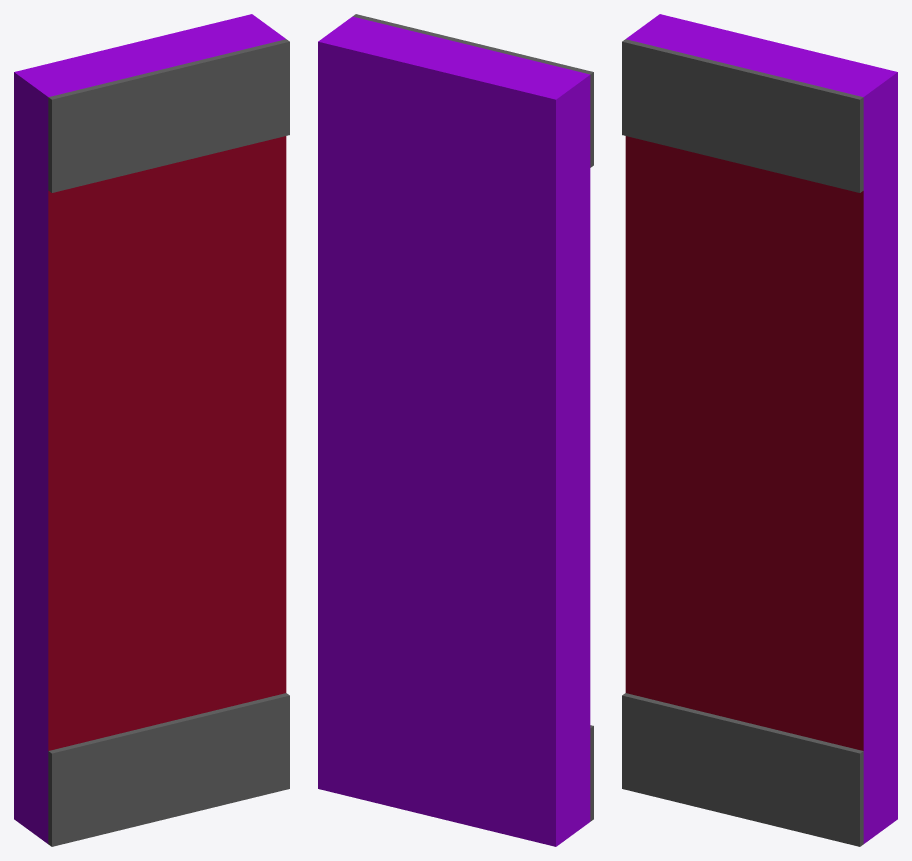
File: Wall_X_01_1x3.fbx
The picture shows the model from 3 angles, left to right: view 1: azimuth 30°, elevation 25°; view 2: azimuth 150°, elevation 25°; view 3: azimuth 330°, elevation 25°; orthographic projection.
Parts seen in each view (by area): view 1: Wall_01_1x4; view 2: Wall_01_1x4; view 3: Wall_01_1x4.
Boxes of the visible parts, x1,y1,x2,y2 form: Wall_01_1x4: [14, 14, 289, 846]; Wall_01_1x4: [318, 14, 593, 846]; Wall_01_1x4: [622, 14, 897, 846].
Bounding box in the file's own units: 1 × 3 × 0.275.
